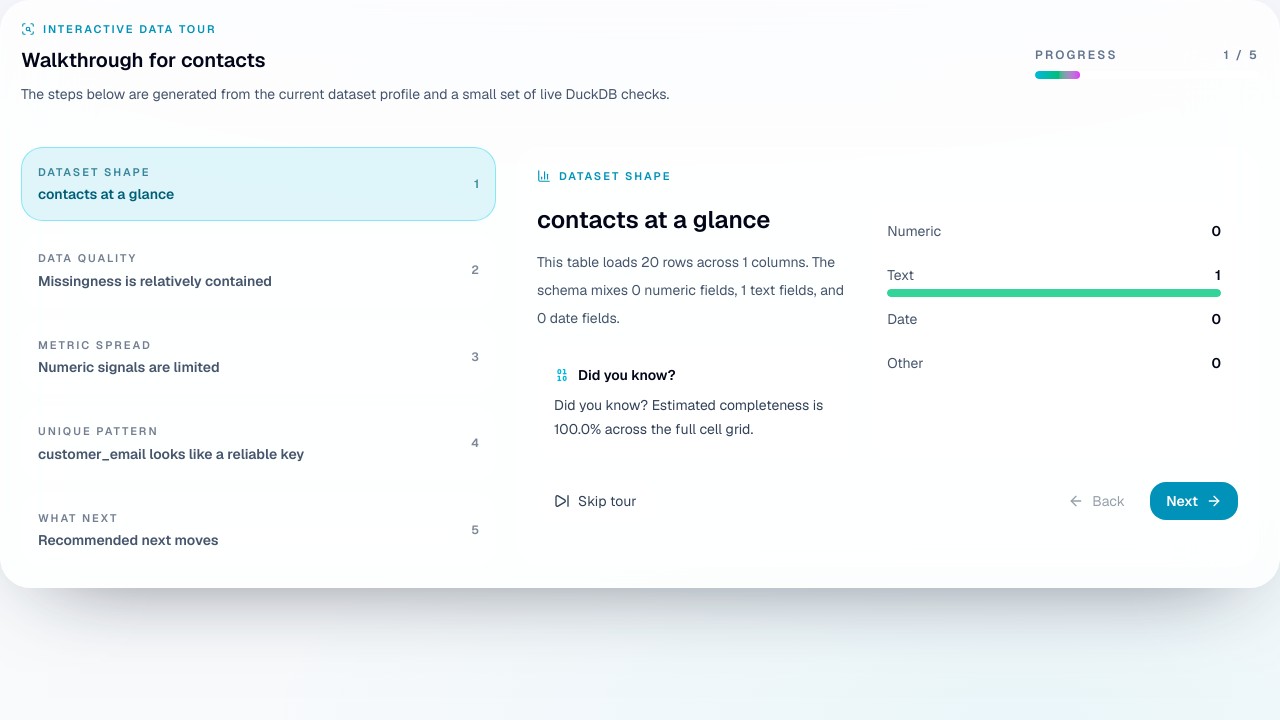
DataTour › falls back to the identifier step when a high-cardinality key stands out
The image size is (1280, 720).
Click the button "Unique pattern customer_email looks like a reliable key 4" at (258, 443), box [21,406,496,480]
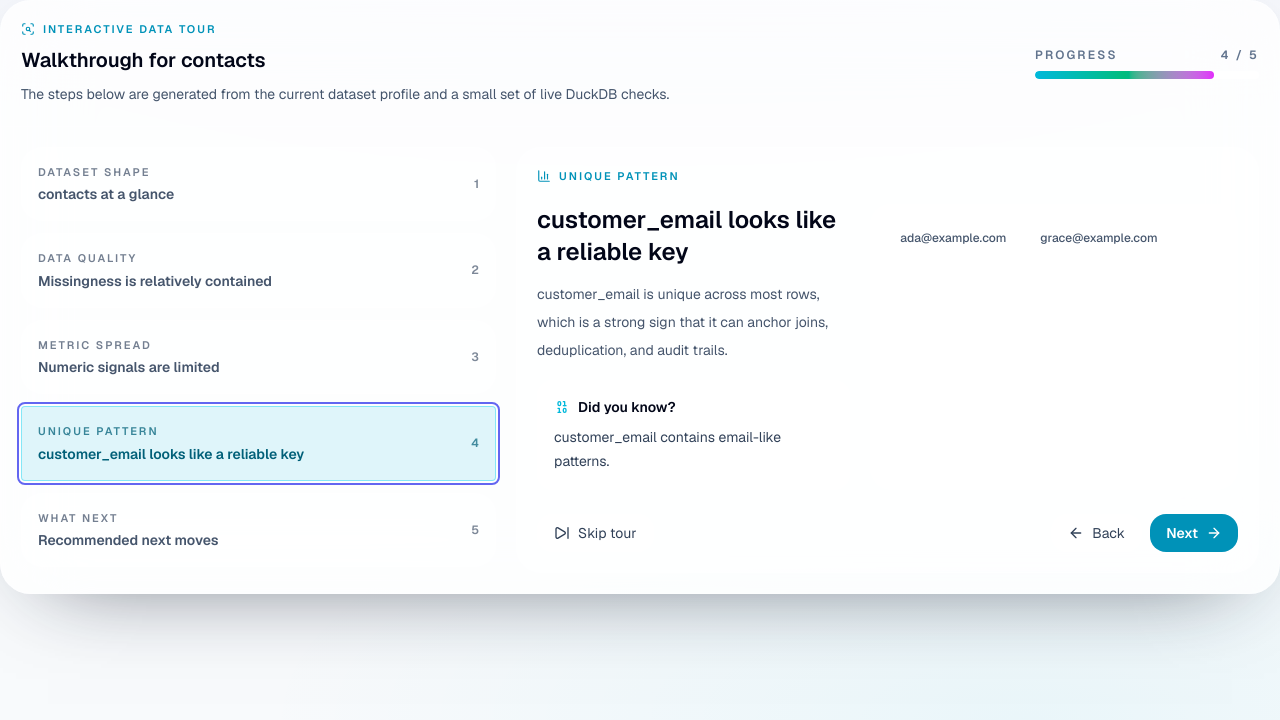
Now the heading "customer_email looks like a reliable key" is shown, box [537,204,850,268]
Now the text "customer_email contains email-like patterns." is shown, box [554,428,781,470]
